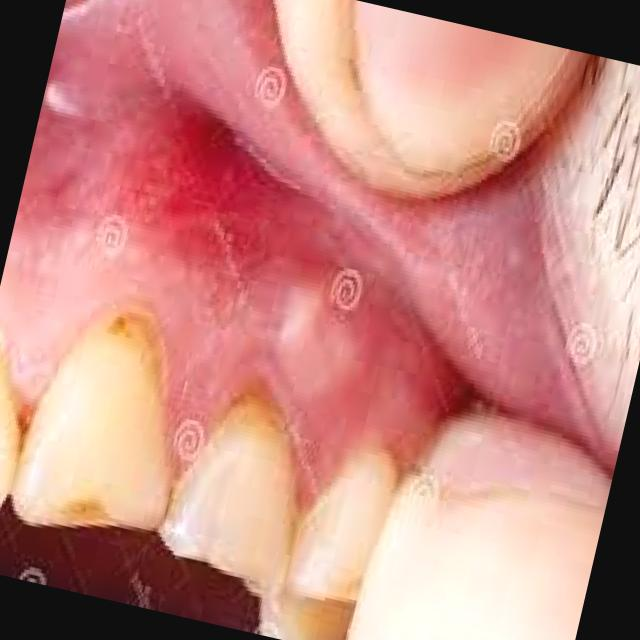abscess: (198, 236, 418, 437), (71, 137, 264, 284)
